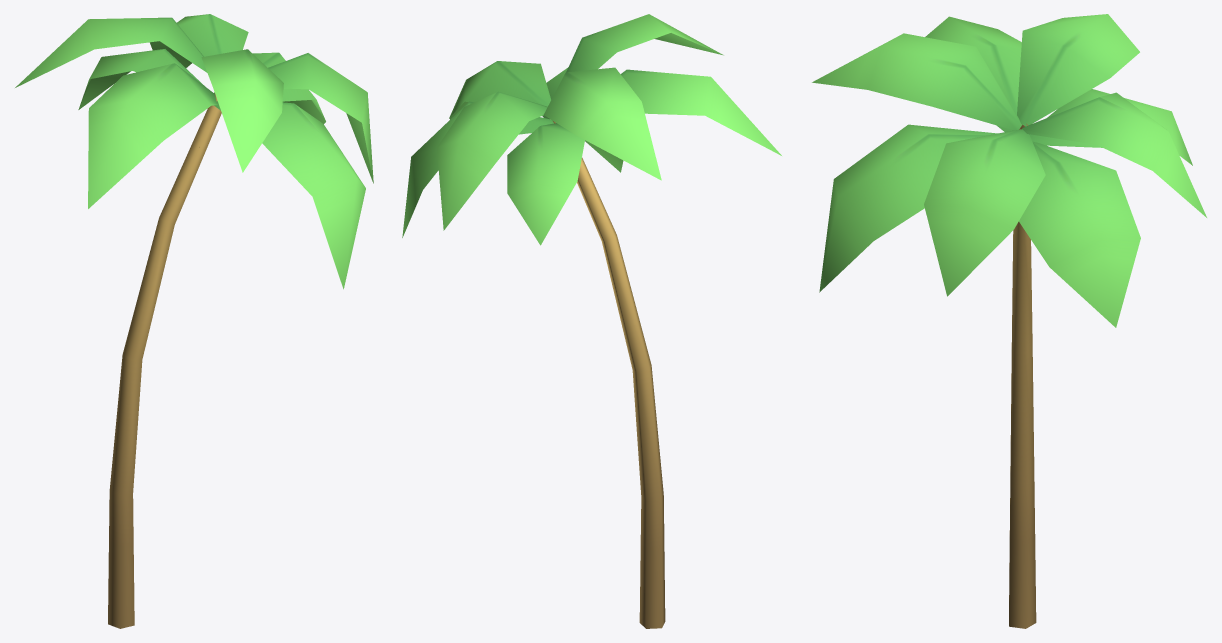
Rendered from Pohon_3.fbx.
3 renders of one model, left to right at view 1: azimuth 30°, elevation 25°; view 2: azimuth 150°, elevation 25°; view 3: azimuth 270°, elevation 25°, orthographic. The views are drawn at different scales.
Visible parts, largest first — view 1: Pohon_3.002; view 2: Pohon_3.002; view 3: Pohon_3.002.
Part boxes in pixels (bbox=[...]): Pohon_3.002: bbox=[15, 14, 373, 628]; Pohon_3.002: bbox=[402, 14, 781, 628]; Pohon_3.002: bbox=[812, 14, 1206, 628].
Bounding box in the file's own units: 1408 × 2527 × 1478.
